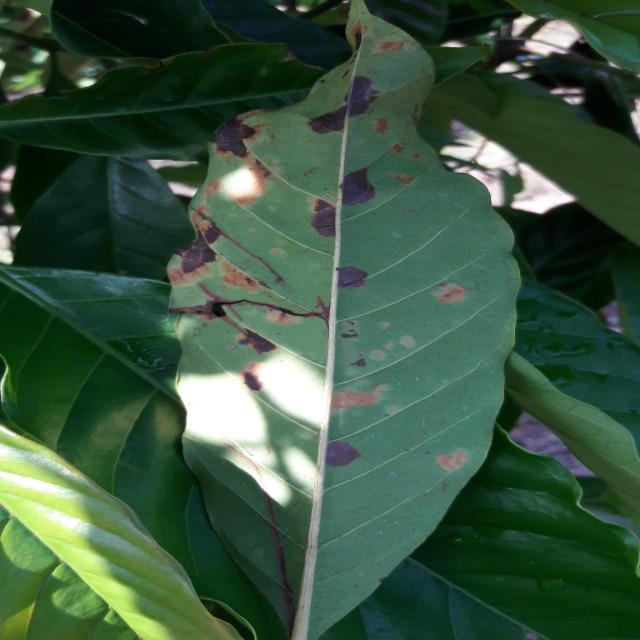Enfermedad-Roya: (166, 0, 521, 640)
